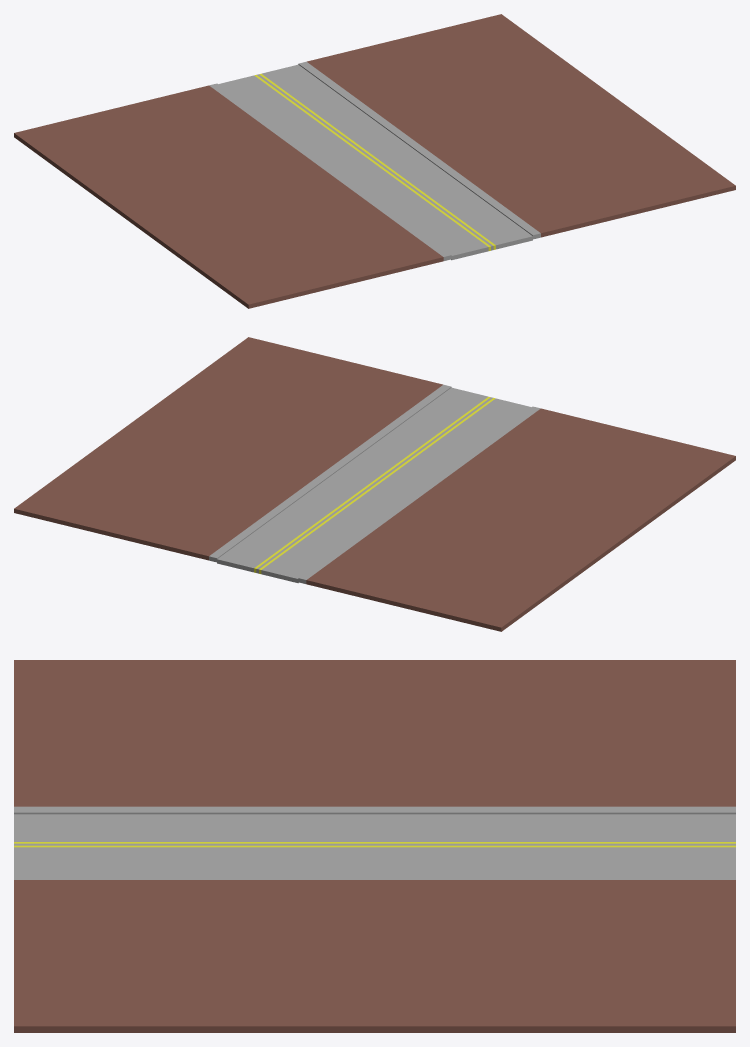
Rendered from Road_Straight.fbx.
The picture shows the model from 3 angles, top to bottom: view 1: azimuth 30°, elevation 25°; view 2: azimuth 150°, elevation 25°; view 3: azimuth 270°, elevation 25°; orthographic projection. The views are drawn at different scales.
Visible parts, largest first — view 1: pCube24, pCube21, pCube25; view 2: pCube24, pCube21, pCube25; view 3: pCube21, pCube24, pCube25.
Part boxes in pixels (x1=…): pCube24: x1=14, y1=83, x2=451, y2=308; pCube21: x1=298, y1=14, x2=735, y2=239; pCube25: x1=218, y1=64, x2=532, y2=260; pCube24: x1=298, y1=406, x2=735, y2=631; pCube21: x1=14, y1=337, x2=451, y2=562; pCube25: x1=217, y1=387, x2=531, y2=583; pCube21: x1=14, y1=873, x2=735, y2=1032; pCube24: x1=14, y1=660, x2=735, y2=814; pCube25: x1=14, y1=814, x2=735, y2=873.
Bounding box in the file's own units: 120 × 1.23 × 100.
